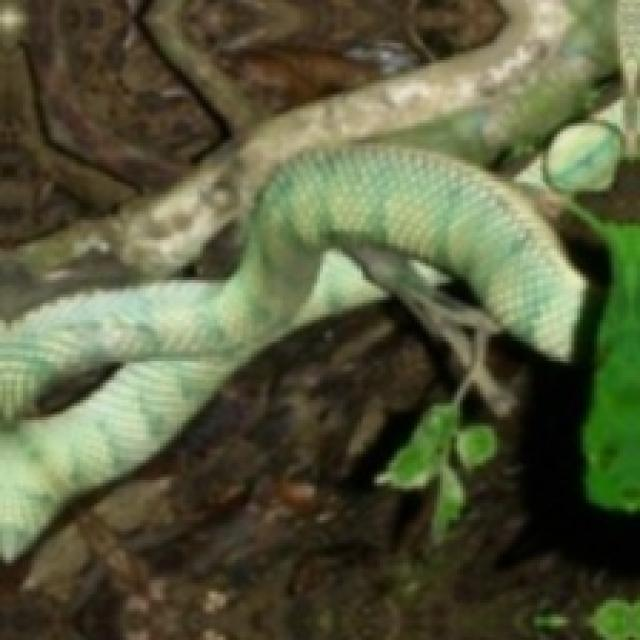north ph temple pitviper: (0, 146, 583, 557)
